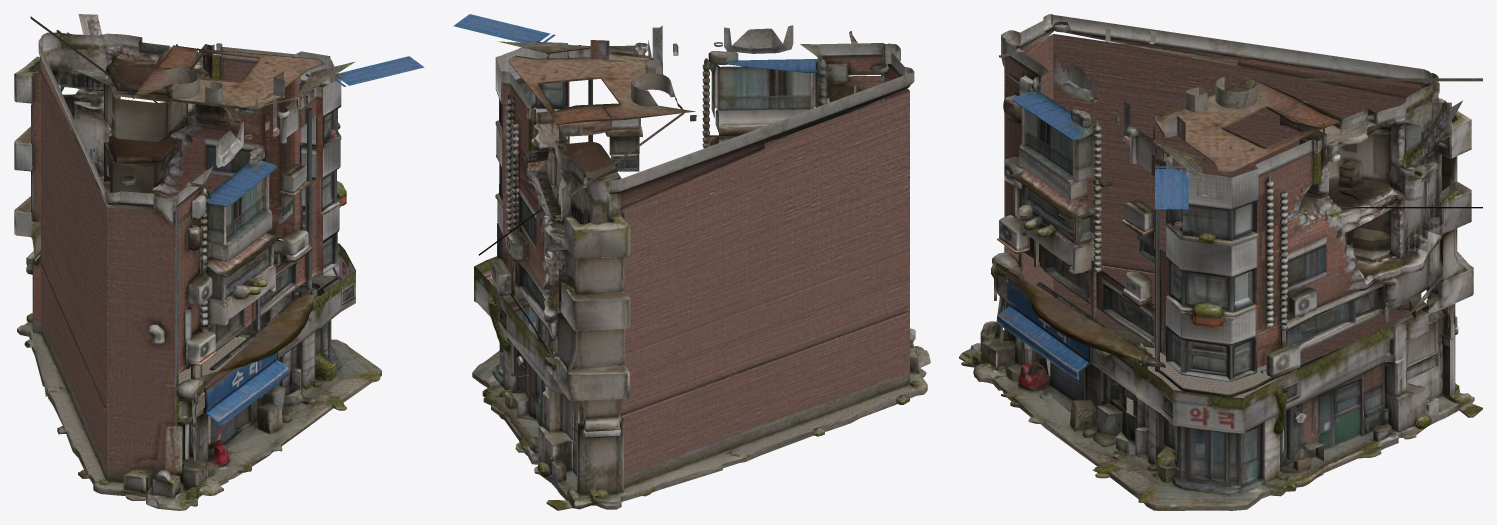
File: seoul-corner-shops.glb
3 views of the same model, side by side, from view 1: azimuth 30°, elevation 25°; view 2: azimuth 150°, elevation 25°; view 3: azimuth 270°, elevation 25° (orthographic). The views are drawn at different scales.
Parts seen in each view (by area): view 1: tripo_node_15166035-b475-46ee-8f5b-53069ba48bbb; view 2: tripo_node_15166035-b475-46ee-8f5b-53069ba48bbb; view 3: tripo_node_15166035-b475-46ee-8f5b-53069ba48bbb.
Boxes of the visible parts, x1,y1,x2,y2 form: tripo_node_15166035-b475-46ee-8f5b-53069ba48bbb: (14,14,424,510); tripo_node_15166035-b475-46ee-8f5b-53069ba48bbb: (453,14,930,510); tripo_node_15166035-b475-46ee-8f5b-53069ba48bbb: (959,14,1482,510).
Bounding box in the file's own units: 0.908 × 0.728 × 1.
Materials: 1 (1 with a texture image).
